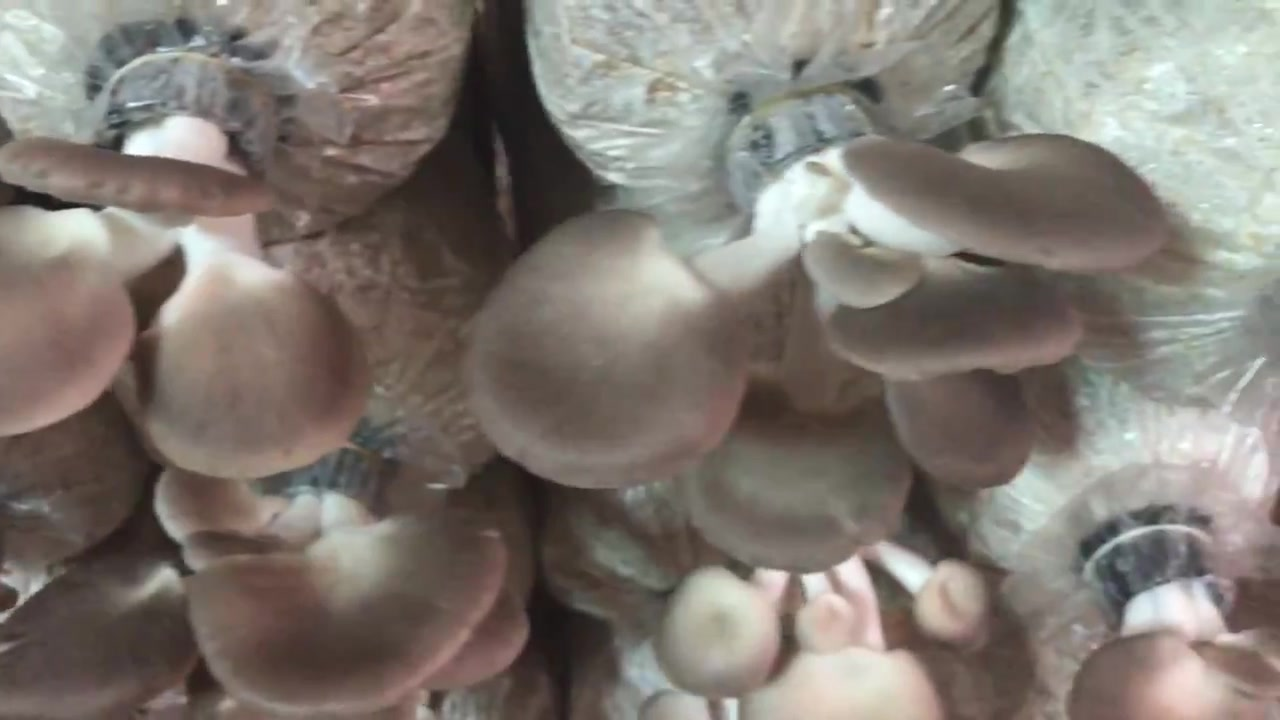nam: (474, 96, 1167, 573), (1, 38, 370, 474), (1, 450, 505, 719), (642, 541, 986, 720), (1070, 525, 1280, 719)
